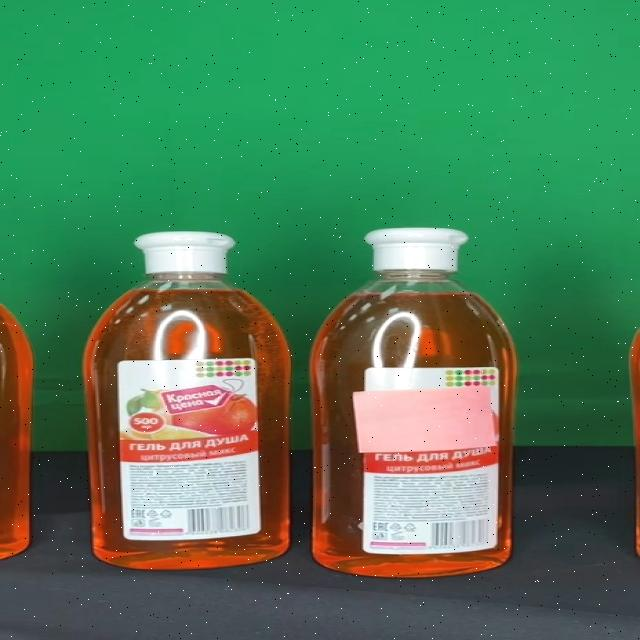Bottle: (309, 228, 517, 577), (83, 231, 291, 570)
Cap: (365, 228, 467, 272), (135, 231, 238, 273)
